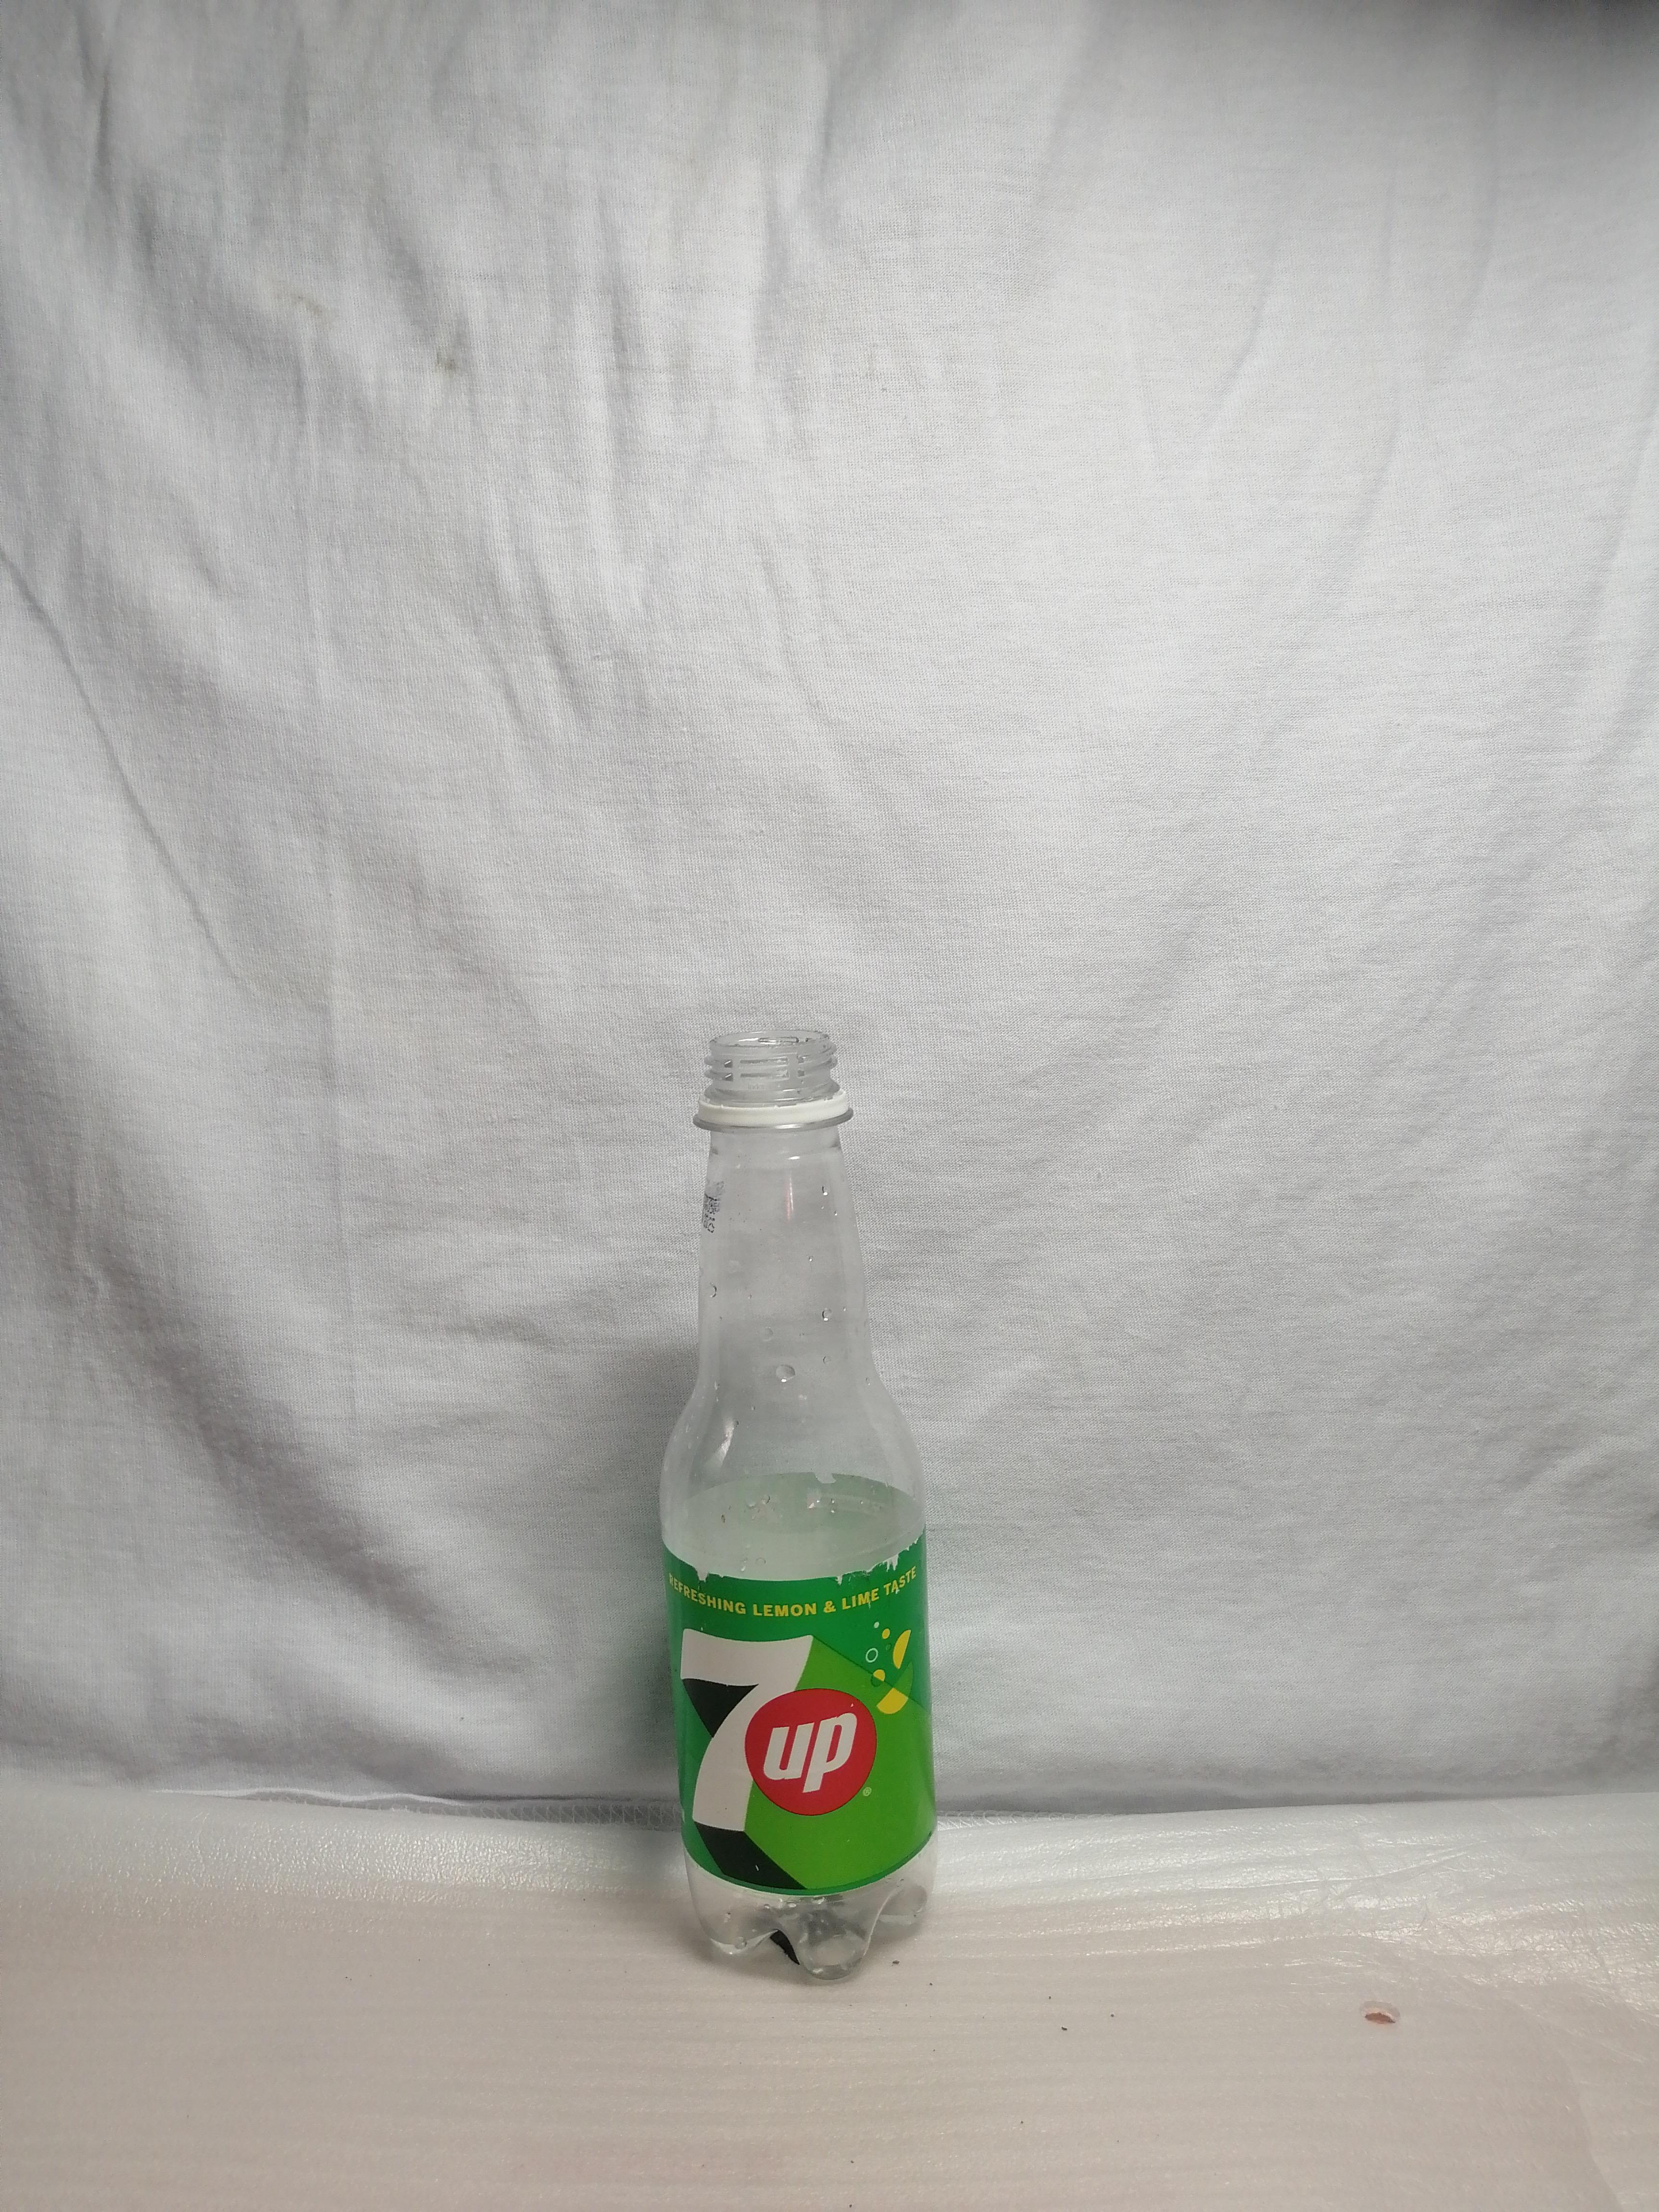plastic-bottle: (576, 970, 1013, 2045)
